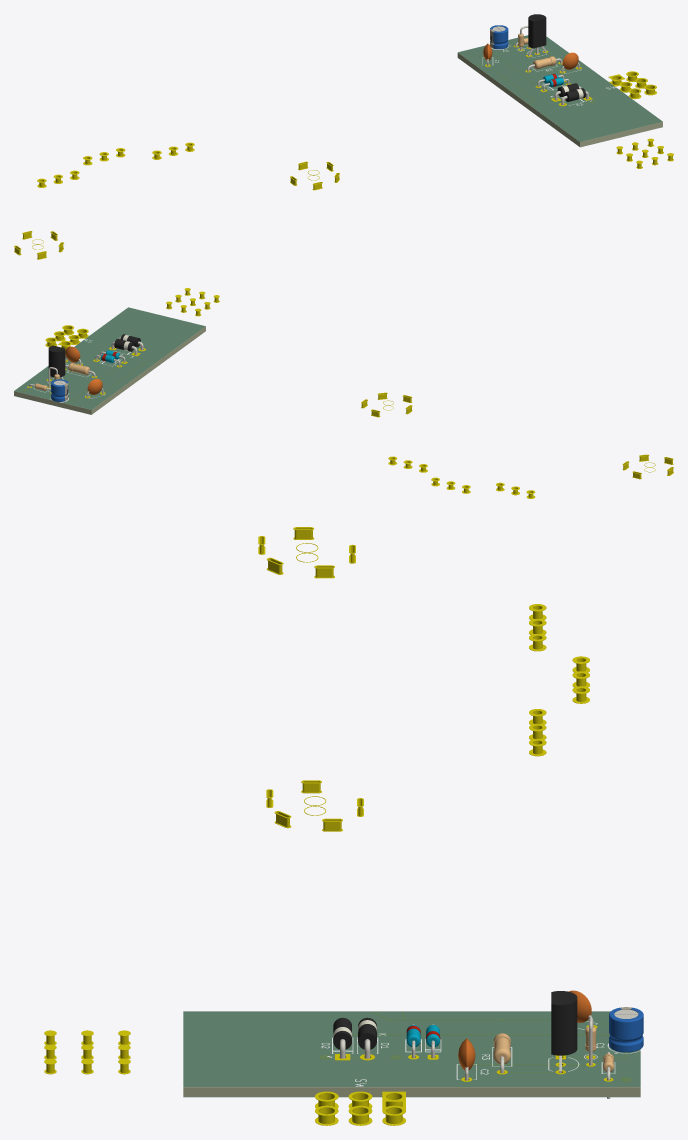
The picture shows the model from 3 angles, top to bottom: view 1: azimuth 30°, elevation 25°; view 2: azimuth 150°, elevation 25°; view 3: azimuth 270°, elevation 25°; orthographic projection. The views are drawn at different scales.
Visible parts, largest first — view 1: =>[0:1:1:22], =>[0:1:1:20], =>[0:1:1:18], =>[0:1:1:13], =>[0:1:1:3]; view 2: =>[0:1:1:22], =>[0:1:1:20], =>[0:1:1:18], =>[0:1:1:13], =>[0:1:1:3]; view 3: =>[0:1:1:22], =>[0:1:1:20], =>[0:1:1:18], =>[0:1:1:13], =>[0:1:1:3].
Boxes of the visible parts, x1,y1,x2,y2 form: =>[0:1:1:22]: [457, 36, 662, 147]; =>[0:1:1:20]: [458, 35, 662, 141]; =>[0:1:1:18]: [14, 45, 673, 259]; =>[0:1:1:13]: [528, 14, 546, 56]; =>[0:1:1:3]: [490, 25, 508, 49]; =>[0:1:1:22]: [14, 308, 205, 414]; =>[0:1:1:20]: [14, 307, 205, 409]; =>[0:1:1:18]: [23, 288, 673, 498]; =>[0:1:1:13]: [48, 345, 65, 380]; =>[0:1:1:3]: [51, 379, 68, 401]; =>[0:1:1:22]: [183, 1012, 640, 1096]; =>[0:1:1:20]: [183, 1011, 640, 1086]; =>[0:1:1:18]: [44, 527, 631, 1125]; =>[0:1:1:13]: [551, 991, 577, 1073]; =>[0:1:1:3]: [609, 1007, 643, 1052].
Size of the model in its own units: 0.1996 by 0.0135 by 0.0859.
